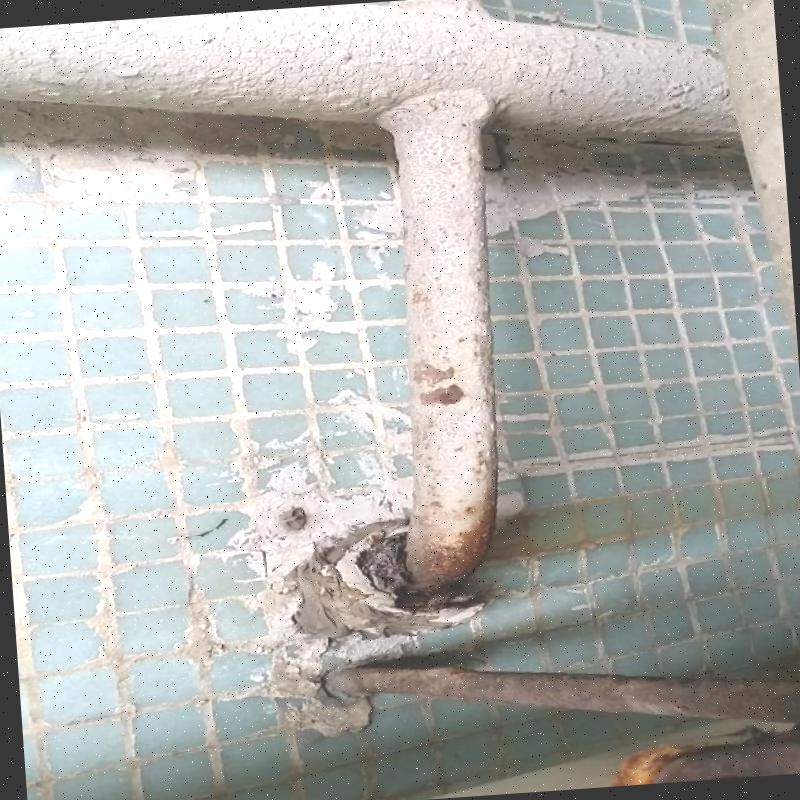corrosion: (263, 538, 414, 678)
